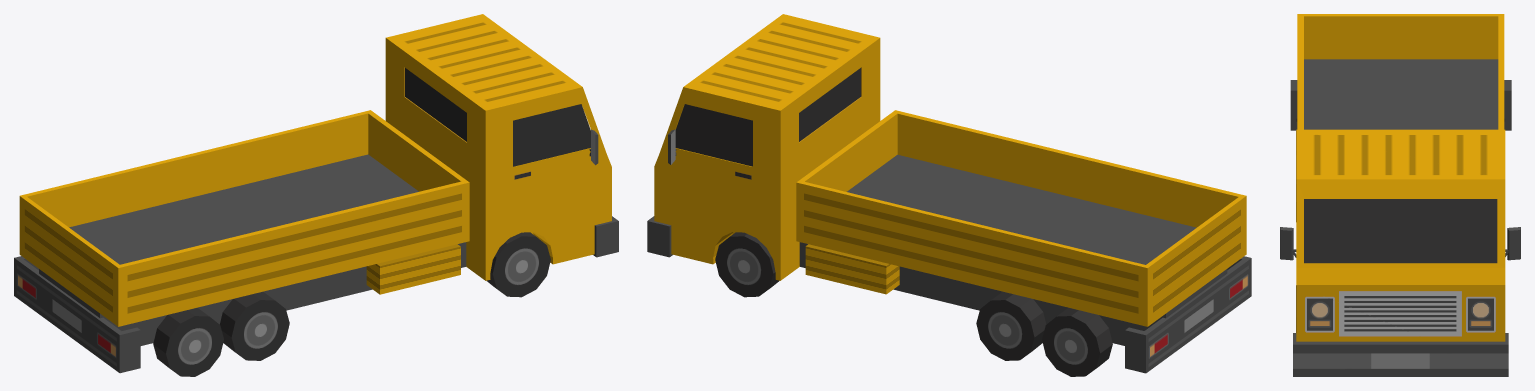
Rendered from truck.gltf.
3 renders of one model, left to right at view 1: azimuth 30°, elevation 25°; view 2: azimuth 150°, elevation 25°; view 3: azimuth 270°, elevation 25°, orthographic. The views are drawn at different scales.
Visible parts, largest first — view 1: truck; view 2: truck; view 3: truck.
Boxes of the visible parts, x1,y1,x2,y2 form: truck: (14, 14, 618, 376); truck: (647, 14, 1251, 376); truck: (1280, 14, 1520, 376).
Size of the model in its own units: 9.1 by 3.39 by 3.63.
Materials: 1 (1 with a texture image).
